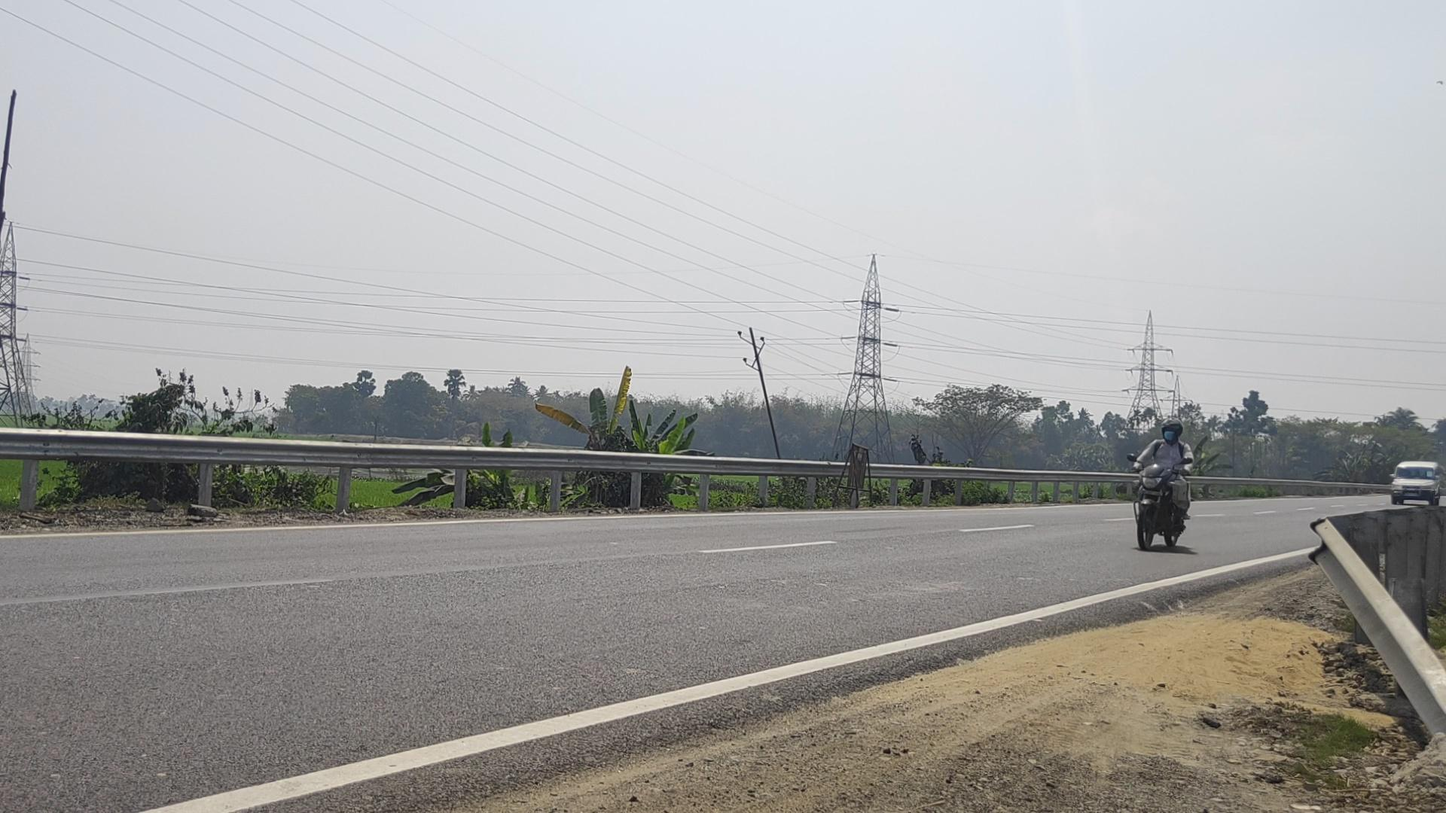bike: (1127, 418, 1194, 551)
car: (1389, 461, 1441, 507)
